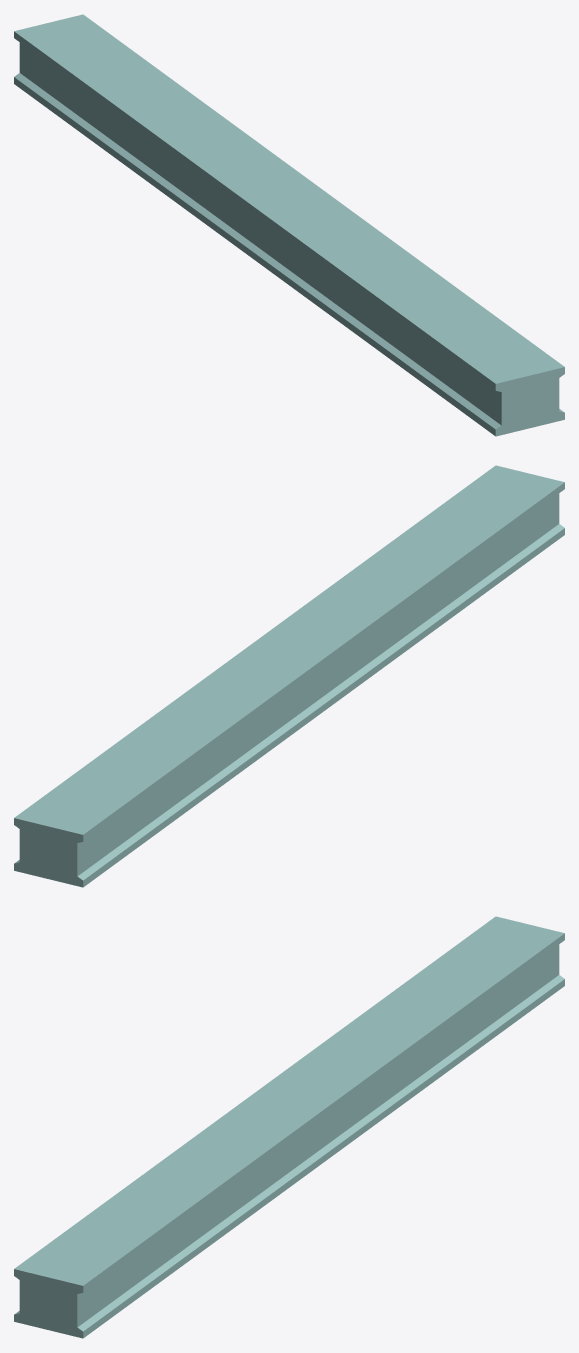
File: Ev_company_exit_frame.fbx
3 views of the same model, one above another, from view 1: azimuth 30°, elevation 25°; view 2: azimuth 150°, elevation 25°; view 3: azimuth 330°, elevation 25° (orthographic).
Parts seen in each view (by area): view 1: Ev_company_exit_frame; view 2: Ev_company_exit_frame; view 3: Ev_company_exit_frame.
Boxes of the visible parts, x1,y1,x2,y2 form: Ev_company_exit_frame: (14,14,564,436); Ev_company_exit_frame: (14,465,564,887); Ev_company_exit_frame: (14,916,564,1338).
Size of the model in its own units: 34.56 by 25.15 by 417.
